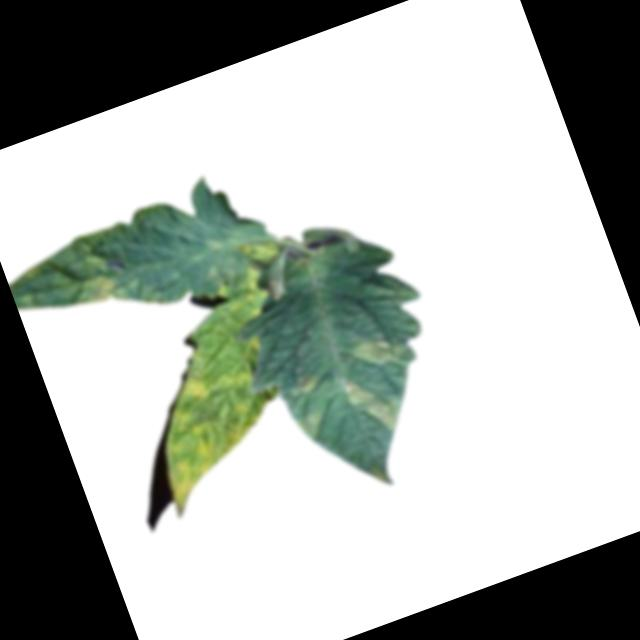Leaf_Mold: (130, 339, 306, 518), (333, 359, 410, 446), (347, 326, 417, 382), (66, 269, 122, 313), (296, 410, 325, 441), (291, 367, 321, 395)
